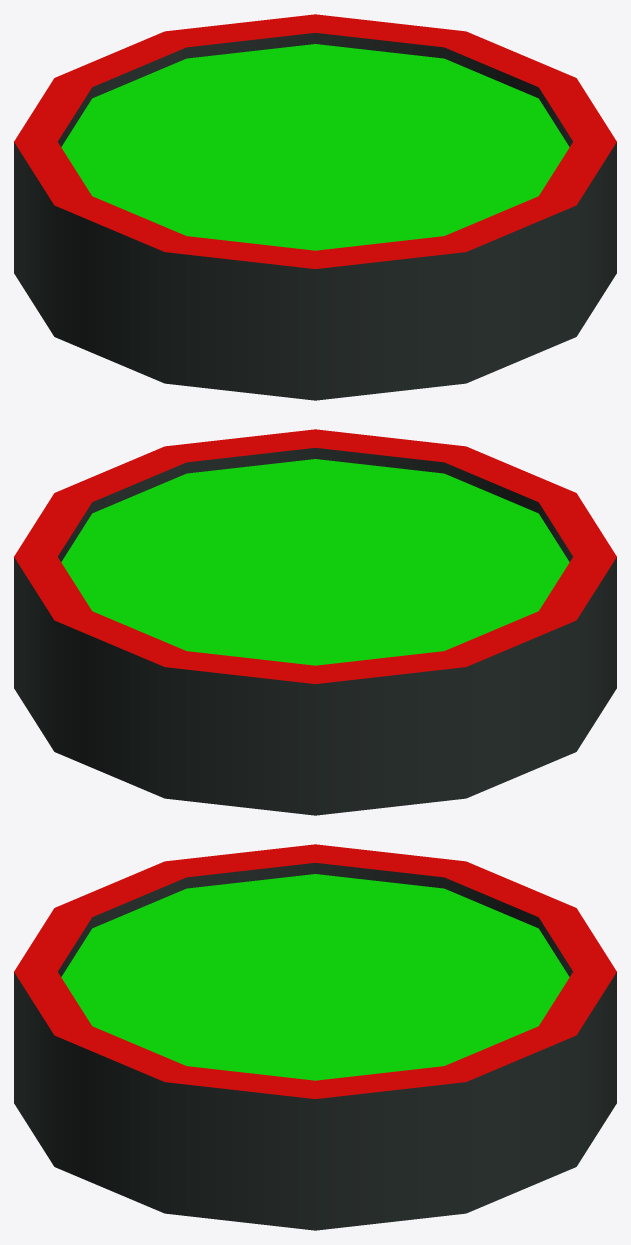
The model's file is SM_Gauge_Low.fbx.
The picture shows the model from 3 angles, top to bottom: view 1: azimuth 30°, elevation 25°; view 2: azimuth 150°, elevation 25°; view 3: azimuth 270°, elevation 25°; orthographic projection.
Parts seen in each view (by area): view 1: SM_Gauge_LowPoly; view 2: SM_Gauge_LowPoly; view 3: SM_Gauge_LowPoly.
Boxes of the visible parts, x1,y1,x2,y2 form: SM_Gauge_LowPoly: [14, 14, 616, 400]; SM_Gauge_LowPoly: [14, 429, 616, 815]; SM_Gauge_LowPoly: [14, 844, 616, 1230].
Bounding box in the file's own units: 20 × 20 × 4.81.
